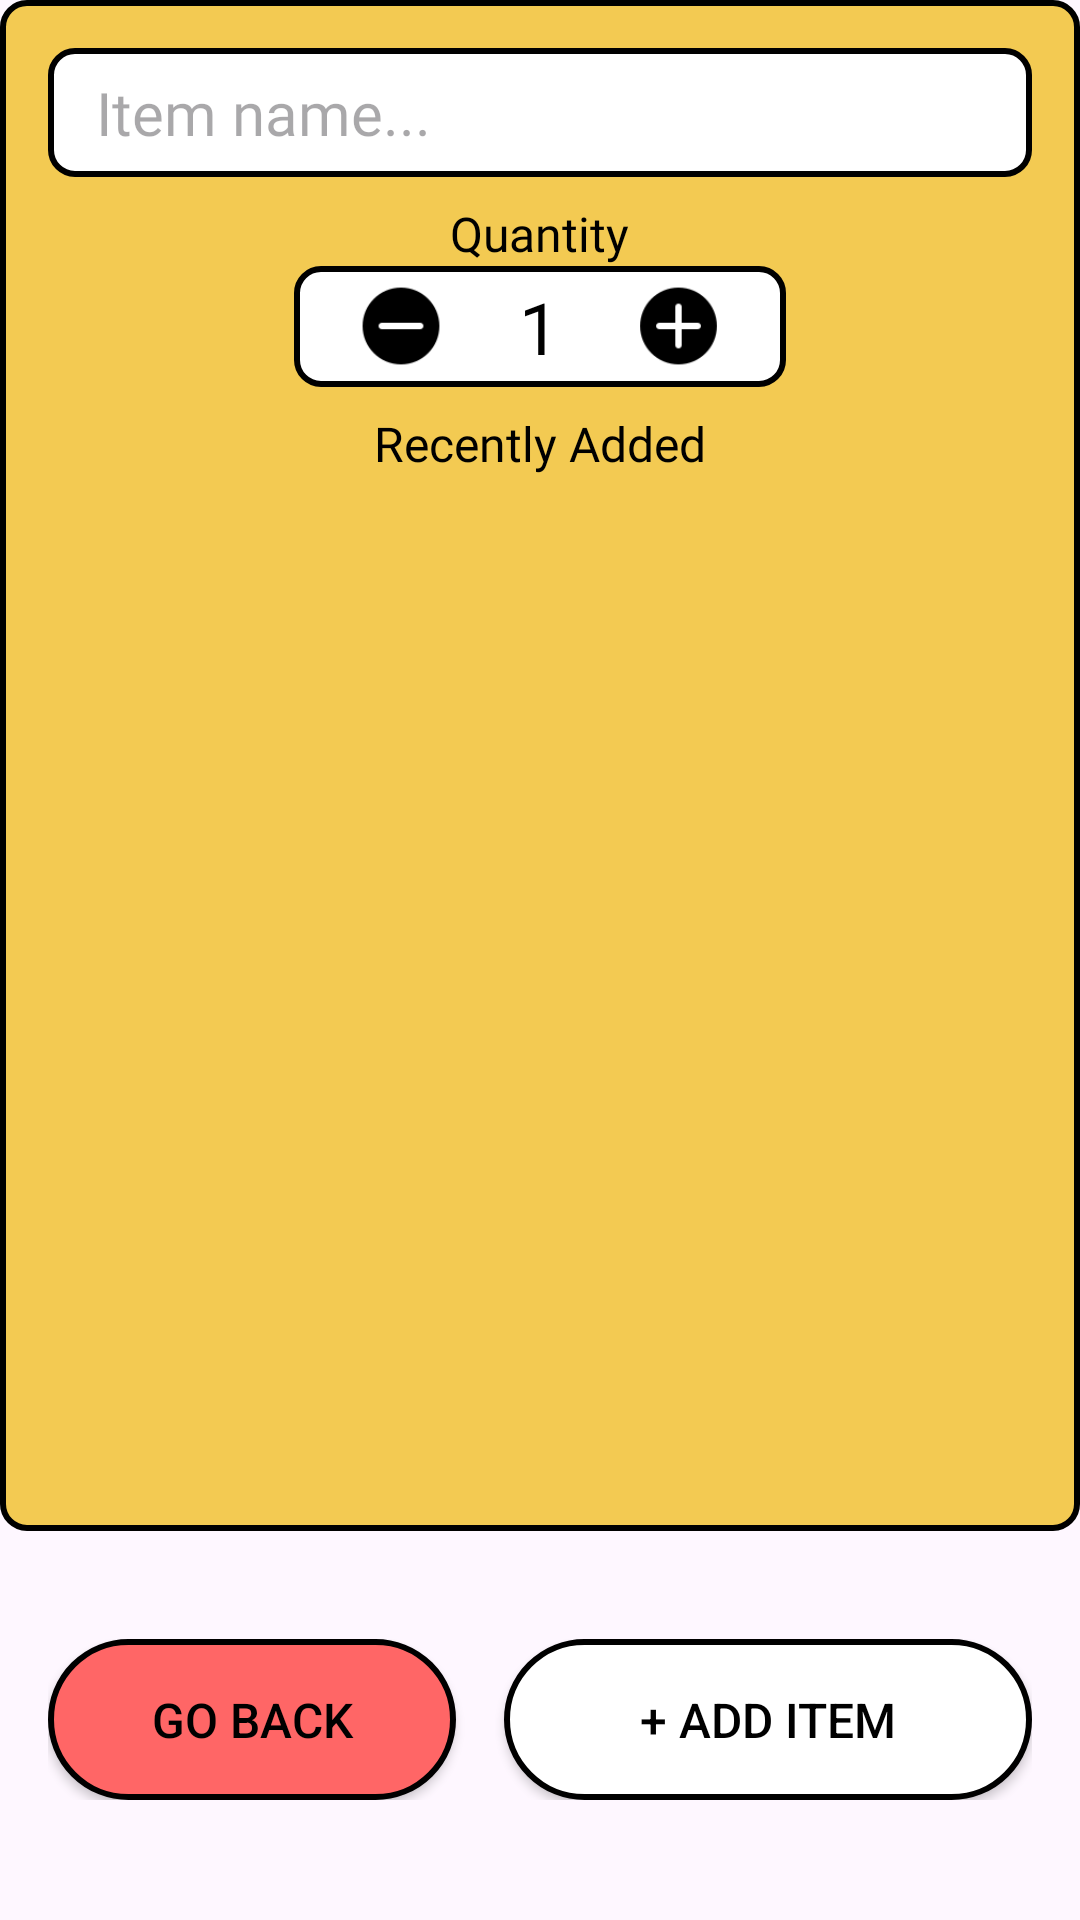

Icons on this 1080*1920 Android screen, each with the point to tap as [x,y]:
minus: [401,326]
plus: [678,326]
